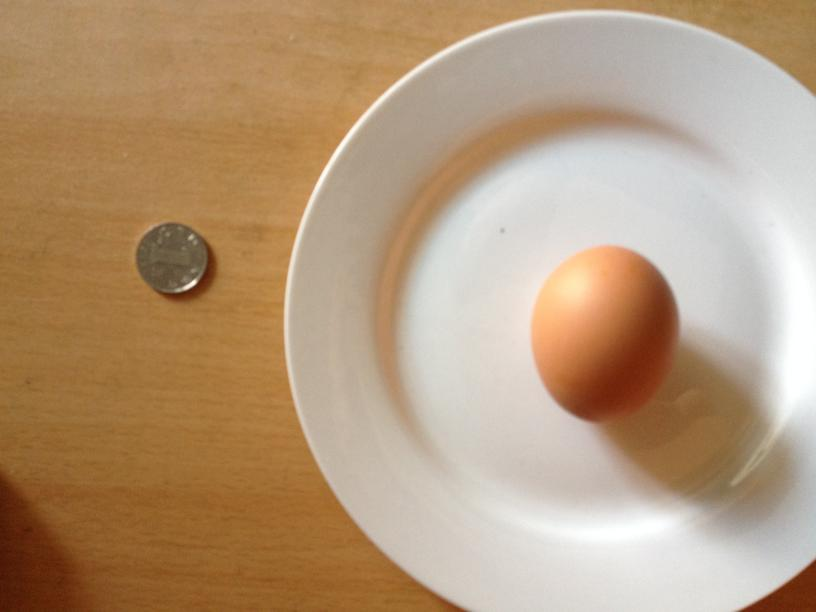coin: (130, 218, 208, 295)
egg: (529, 243, 678, 423)
